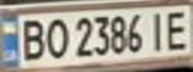2: (72, 12, 93, 59)
3: (90, 12, 112, 56)
6: (124, 10, 148, 53)
8: (109, 11, 130, 56)
B: (15, 16, 48, 62)
E: (160, 7, 193, 52)
I: (145, 8, 172, 52)
O: (42, 15, 69, 60)
